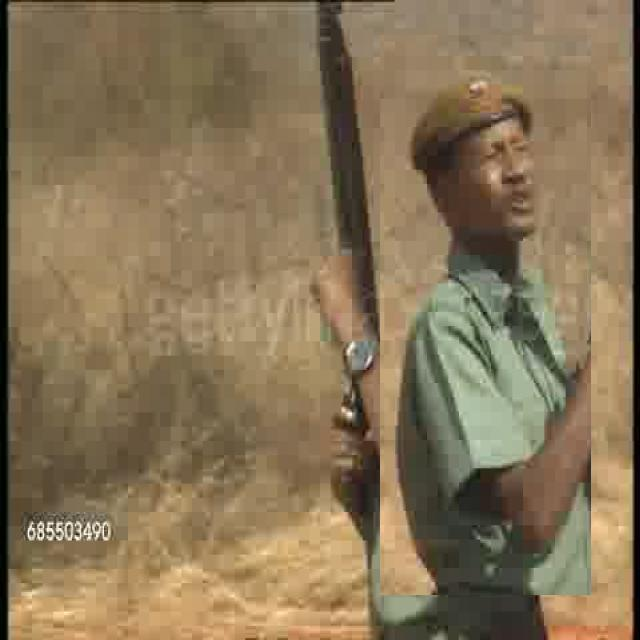poacher: (380, 36, 591, 596)
weapon: (316, 2, 374, 496)
